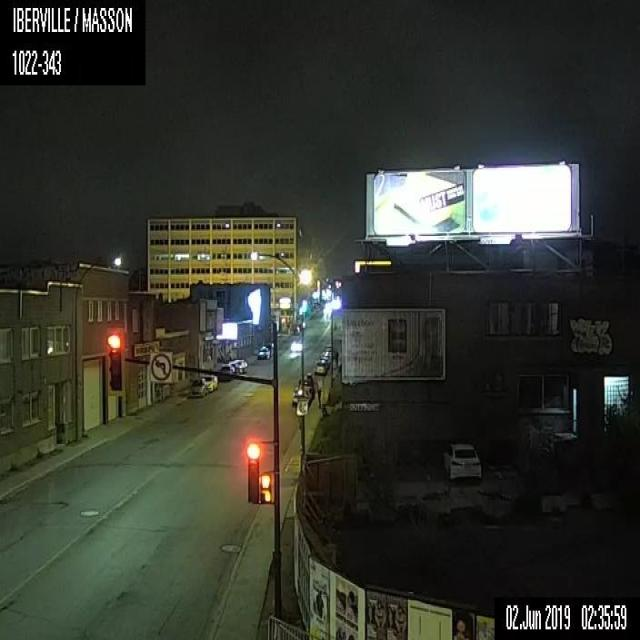pedestrian: (314, 378, 322, 406)
vehicle: (441, 442, 481, 481), (291, 386, 311, 406), (298, 372, 314, 397), (188, 376, 207, 396), (200, 374, 217, 390), (217, 364, 234, 379), (313, 358, 327, 376), (256, 344, 269, 359), (234, 358, 247, 372), (289, 339, 302, 351), (318, 358, 329, 368)
